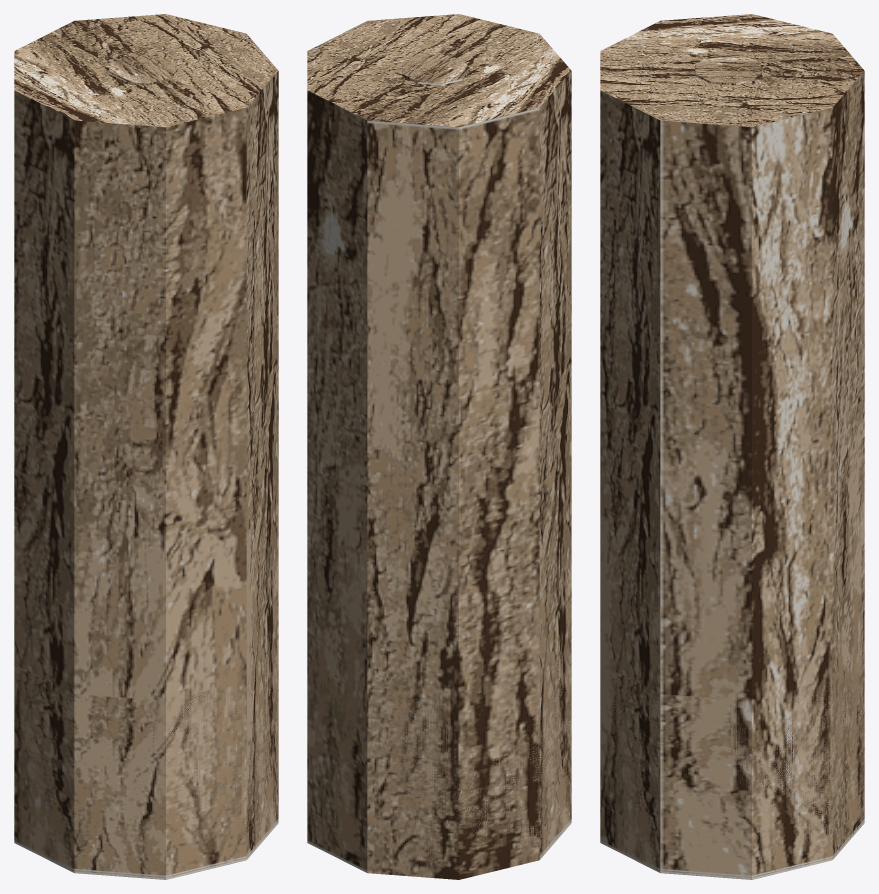
Rendered from branches.glb.
The picture shows the model from 3 angles, left to right: view 1: azimuth 30°, elevation 25°; view 2: azimuth 150°, elevation 25°; view 3: azimuth 270°, elevation 25°; orthographic projection.
Parts seen in each view (by area): view 1: branch, branch_end; view 2: branch, branch_end; view 3: branch, branch_end.
Boxes of the visible parts, box(x1,y1,x2,y2) form: branch: box(14, 14, 278, 879); branch_end: box(14, 54, 278, 877); branch: box(307, 14, 571, 879); branch_end: box(365, 54, 571, 877); branch: box(600, 14, 864, 879); branch_end: box(600, 54, 864, 877).
Bounding box in the file's own units: 0.3223 × 1 × 0.3174.
Materials: 1 (1 with a texture image).
